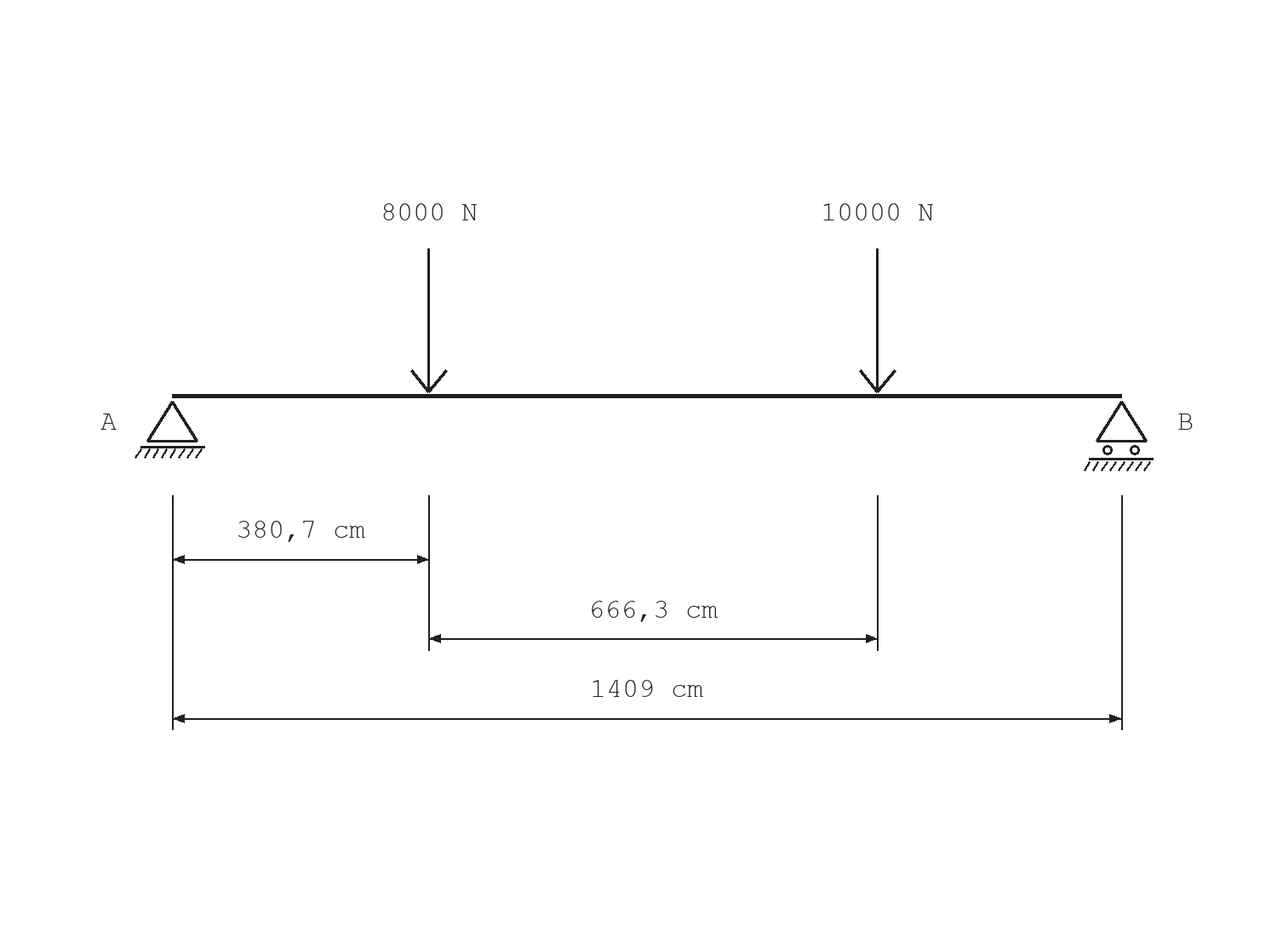pin_support: (135, 401, 205, 459)
point_load: (410, 248, 448, 393), (859, 248, 896, 393)
roller_support: (1084, 401, 1154, 471)
